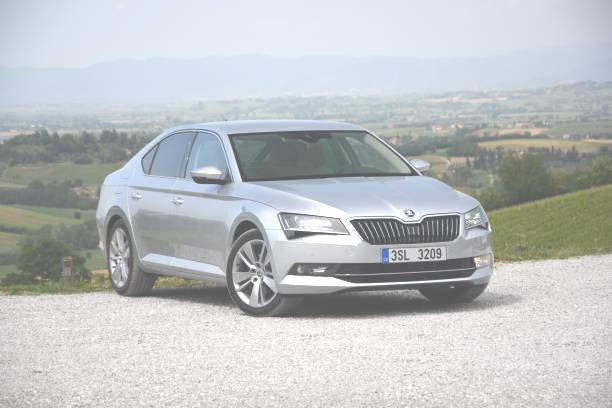skoda: (399, 203, 423, 222)
